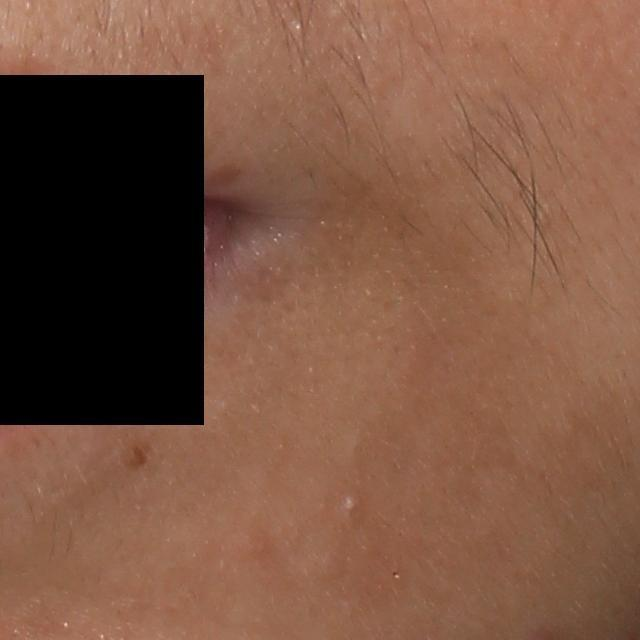comedo: (339, 492, 364, 517), (291, 20, 306, 38)
